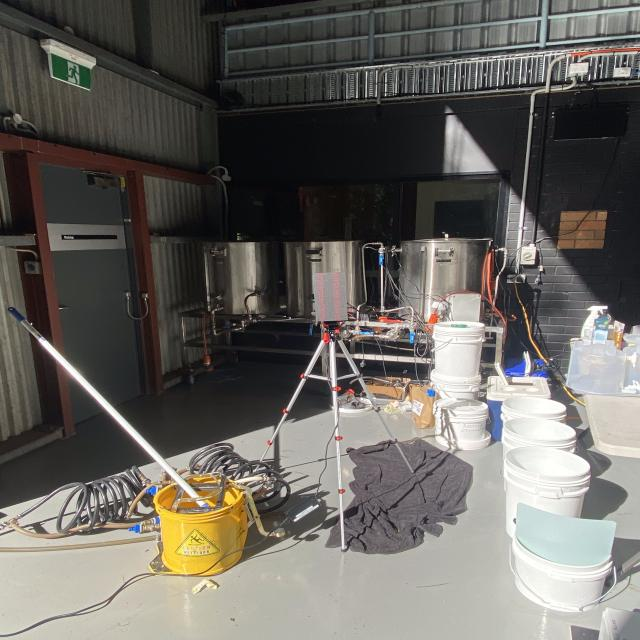matrix: (310, 271, 350, 324)
